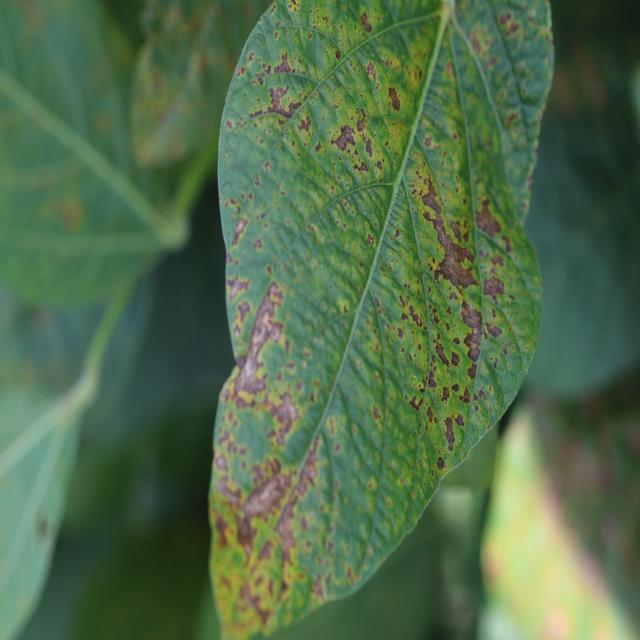Bacterial_Blight: (231, 288, 284, 398), (433, 226, 477, 292), (241, 470, 286, 525), (364, 115, 406, 167), (237, 571, 273, 625), (344, 114, 381, 166), (264, 81, 303, 119), (296, 435, 323, 487), (330, 111, 361, 156), (276, 495, 302, 548), (215, 470, 245, 509), (420, 173, 446, 215), (475, 199, 503, 237), (468, 21, 494, 57), (462, 328, 483, 366), (227, 273, 251, 303), (234, 511, 253, 543), (215, 514, 233, 547), (482, 275, 505, 299), (257, 538, 277, 564), (231, 216, 248, 246), (274, 51, 295, 74), (264, 320, 284, 343), (433, 342, 451, 367), (502, 17, 521, 39), (444, 417, 456, 451), (234, 391, 255, 409), (236, 299, 251, 323), (408, 304, 423, 327), (388, 86, 401, 112), (485, 322, 502, 339), (360, 12, 373, 33), (458, 385, 471, 404), (236, 350, 248, 370), (409, 394, 422, 412), (427, 370, 437, 389), (366, 61, 376, 79), (454, 412, 465, 428), (433, 267, 444, 283), (450, 350, 460, 367), (249, 108, 264, 119), (441, 386, 450, 403), (356, 119, 366, 132), (436, 456, 445, 470), (253, 238, 263, 250), (366, 233, 375, 246), (424, 135, 433, 147), (452, 336, 460, 346), (451, 383, 459, 393), (225, 119, 233, 129), (335, 49, 342, 60)
Soybean: (210, 0, 554, 640)
